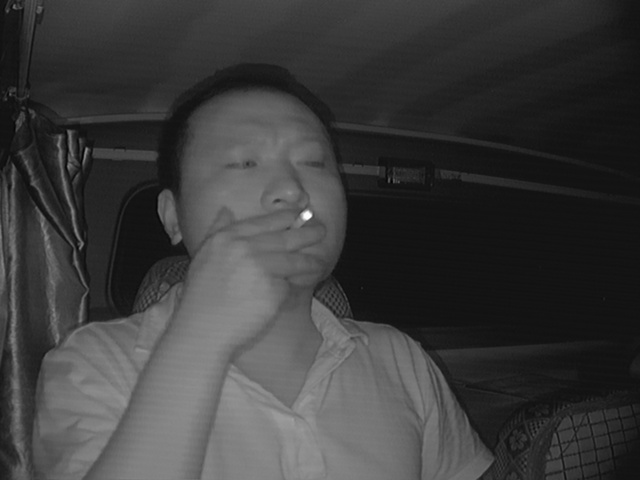hand: (228, 211, 323, 310)
